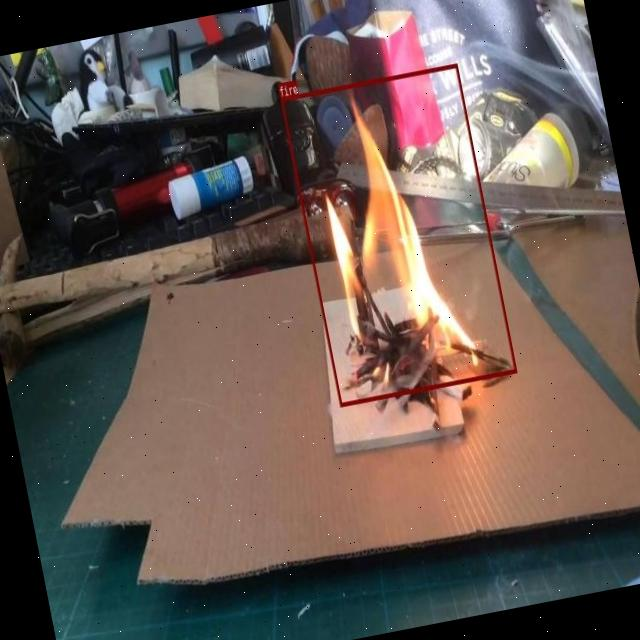fire: (279, 63, 516, 406)
